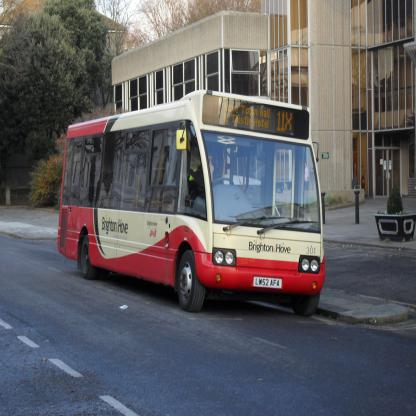Bus: (57, 90, 326, 316)
